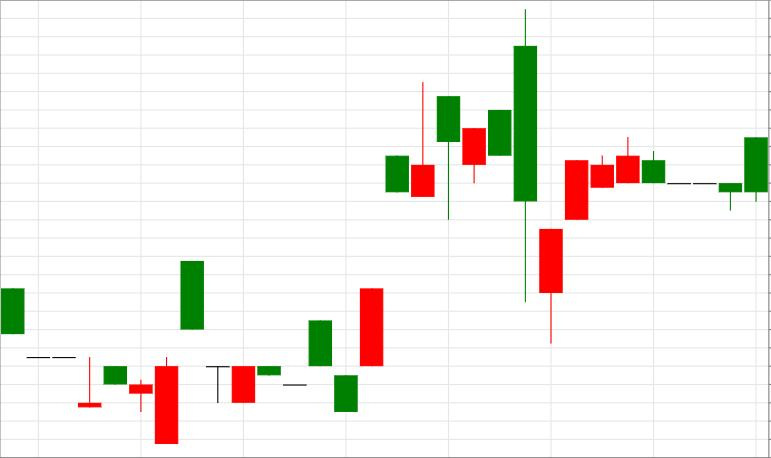shooting_star_fall: (335, 82, 434, 412)
